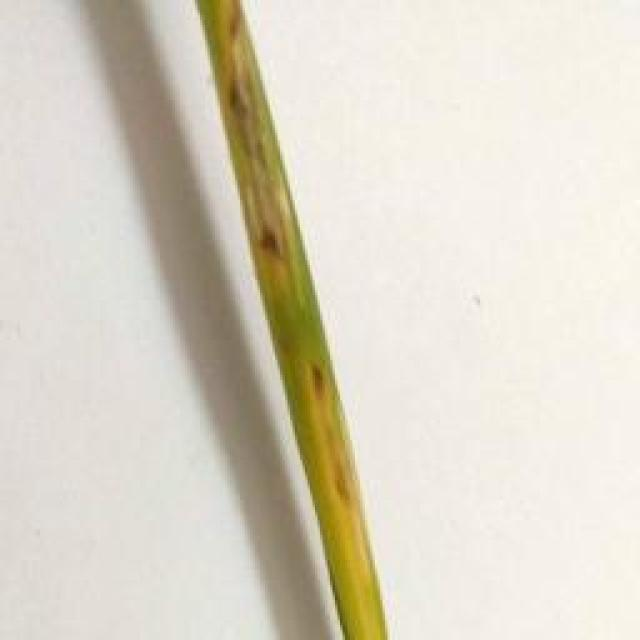Bacterial_Blight: (208, 0, 314, 314), (301, 355, 384, 640)
